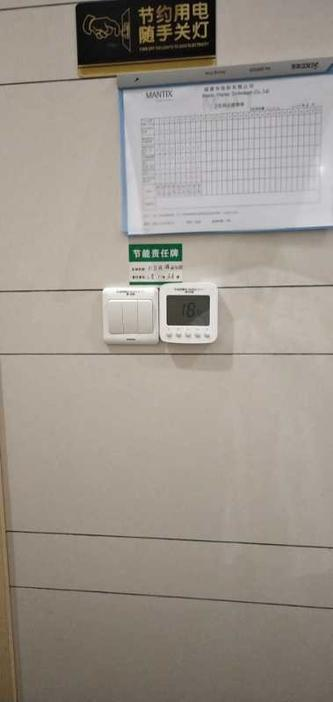switch: (119, 294, 141, 337), (104, 295, 126, 335), (133, 296, 154, 337)
